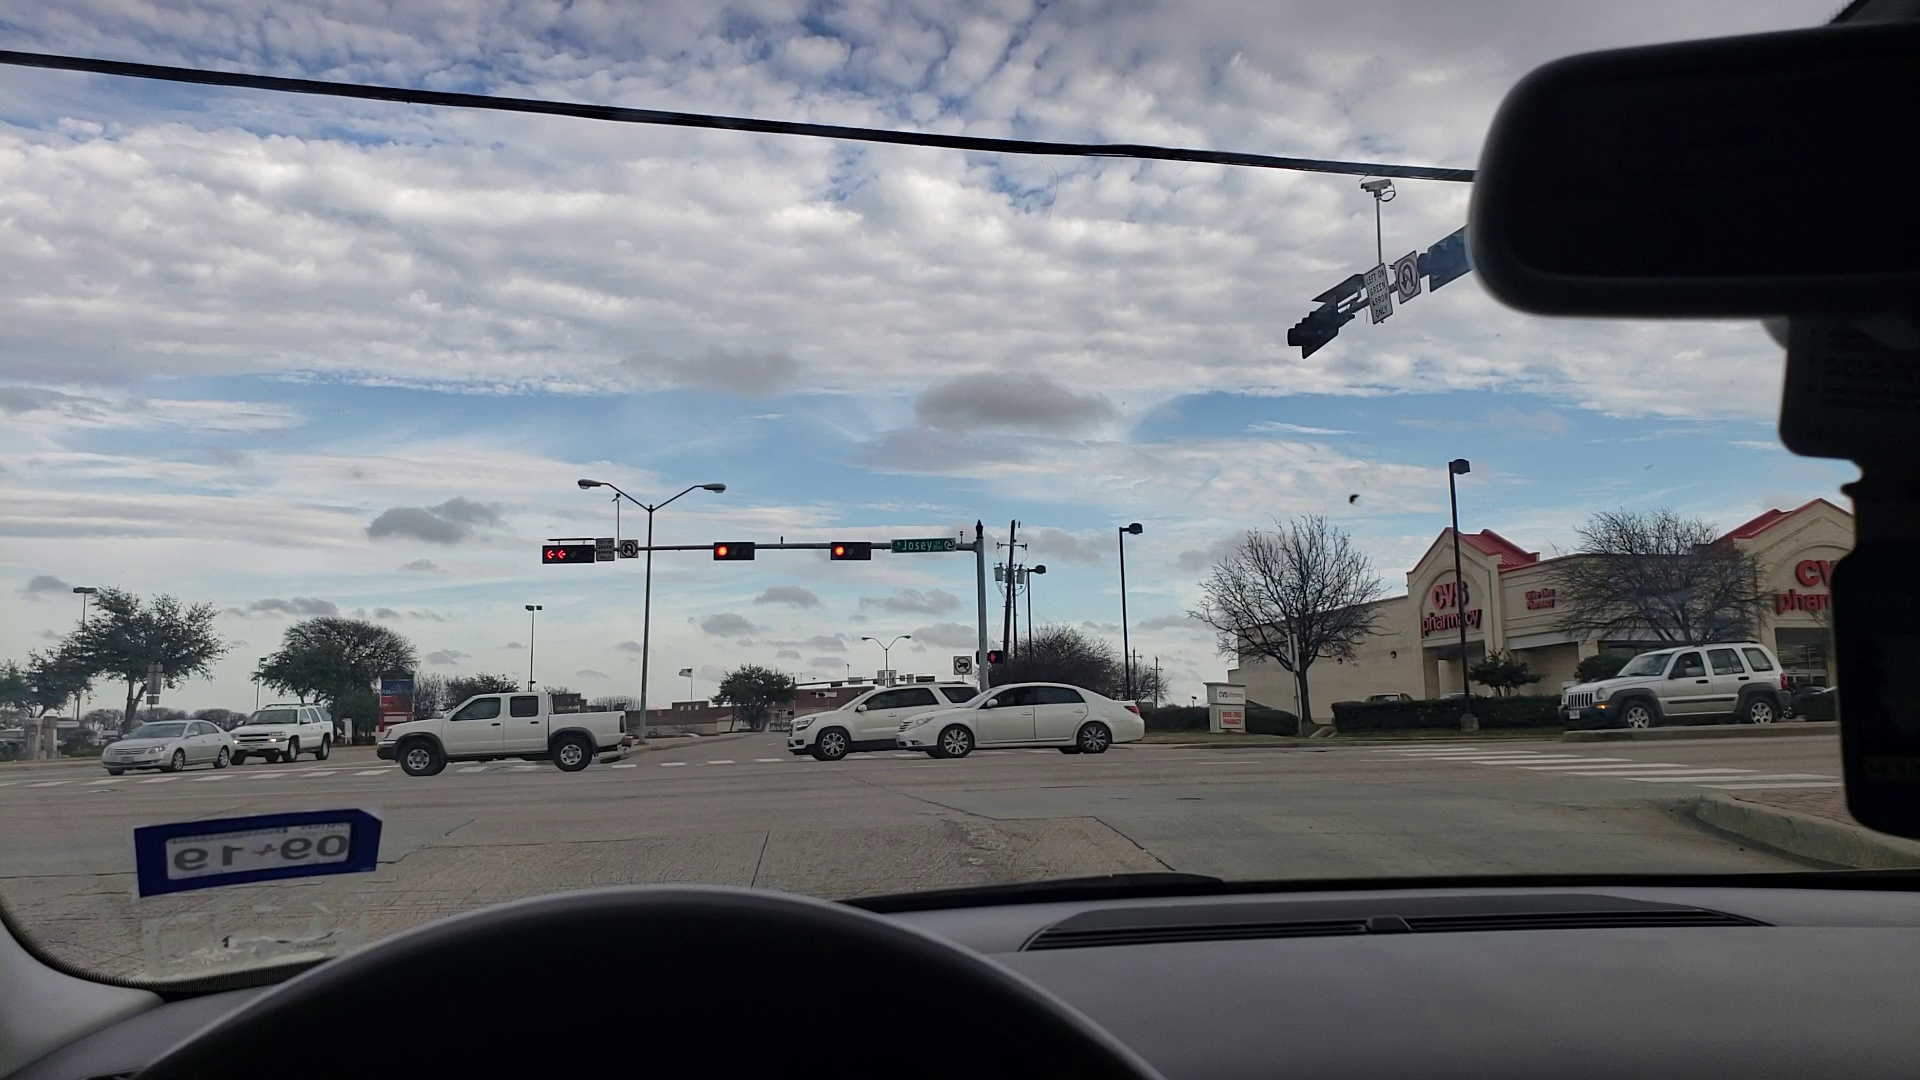car: (1563, 641, 1797, 742), (893, 683, 1149, 756), (779, 680, 989, 761), (96, 713, 237, 777), (228, 702, 334, 764)
traffic light: (827, 539, 876, 563), (535, 546, 597, 562), (713, 545, 756, 560)
truck: (378, 694, 638, 773)
